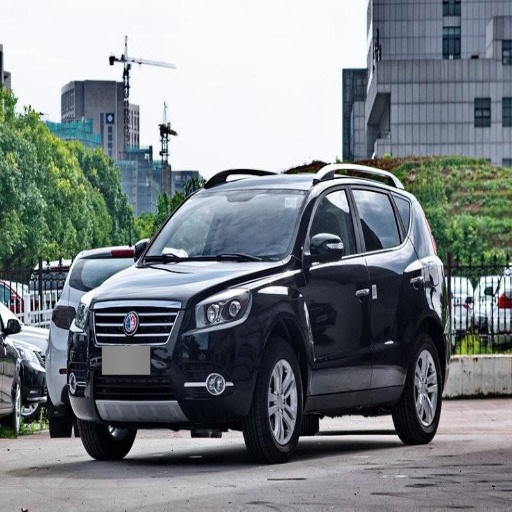front_bumper: (51, 289, 263, 422)
front_glass: (138, 189, 306, 261)
front_left_door: (304, 180, 371, 394)
